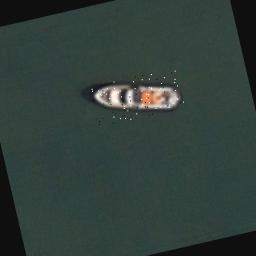boat: (89, 66, 185, 128)
